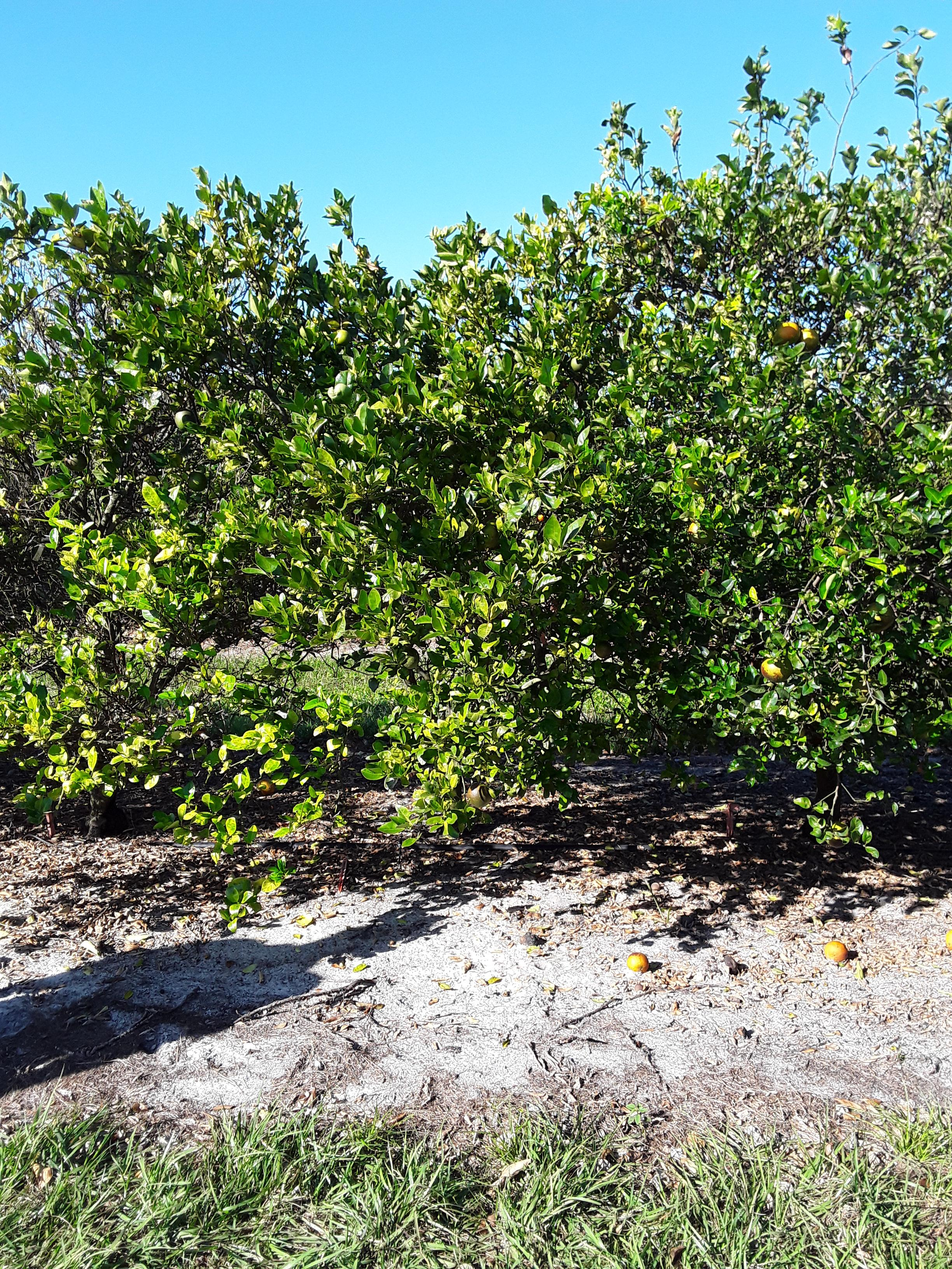fruit_on_ground: (861, 596, 898, 631), (759, 653, 791, 683), (683, 517, 715, 547), (473, 520, 502, 551), (591, 521, 620, 550), (772, 318, 801, 346), (462, 782, 491, 809), (822, 820, 850, 847), (798, 325, 823, 355), (774, 500, 803, 525), (592, 294, 619, 320), (680, 472, 709, 496), (171, 407, 198, 431), (184, 468, 210, 492), (62, 451, 89, 473), (591, 637, 613, 659), (567, 355, 589, 374), (331, 327, 351, 346), (531, 508, 551, 525)
fruit_on_tree: (822, 938, 849, 963), (624, 950, 650, 975), (253, 776, 276, 797), (943, 921, 952, 959)
